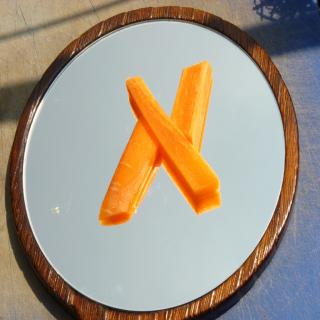Carrot: (126, 74, 221, 200), (100, 115, 157, 217), (171, 59, 214, 152)
